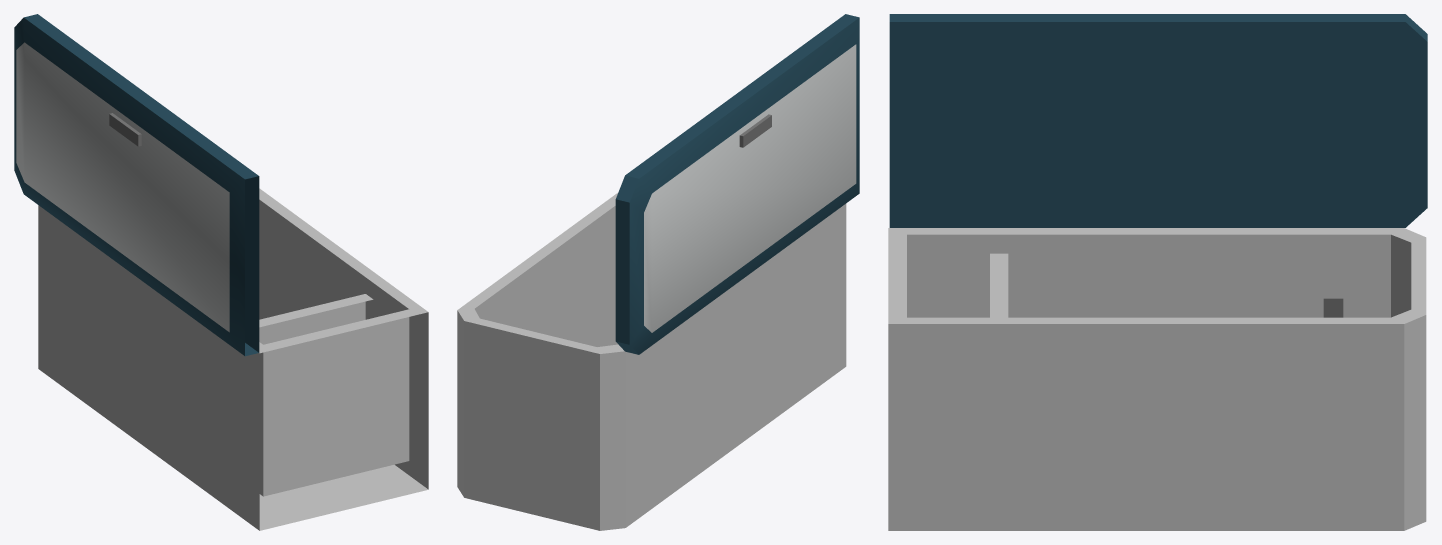
Rendered from Locker 01 W Inside.FBX.
3 views of the same model, side by side, from view 1: azimuth 30°, elevation 25°; view 2: azimuth 150°, elevation 25°; view 3: azimuth 270°, elevation 25° (orthographic). The views are drawn at different scales.
Visible parts, largest first — view 1: Locker 01, Locker 01 Door; view 2: Locker 01, Locker 01 Door; view 3: Locker 01, Locker 01 Door.
Boxes of the visible parts, bbox=[...] form: Locker 01: bbox=[38, 188, 428, 530]; Locker 01 Door: bbox=[14, 14, 259, 356]; Locker 01: bbox=[457, 192, 846, 530]; Locker 01 Door: bbox=[615, 14, 859, 354]; Locker 01: bbox=[888, 228, 1426, 530]; Locker 01 Door: bbox=[889, 14, 1427, 227].
Size of the model in its own units: 96.34 by 169 by 200.
1 material, 1 textured.
